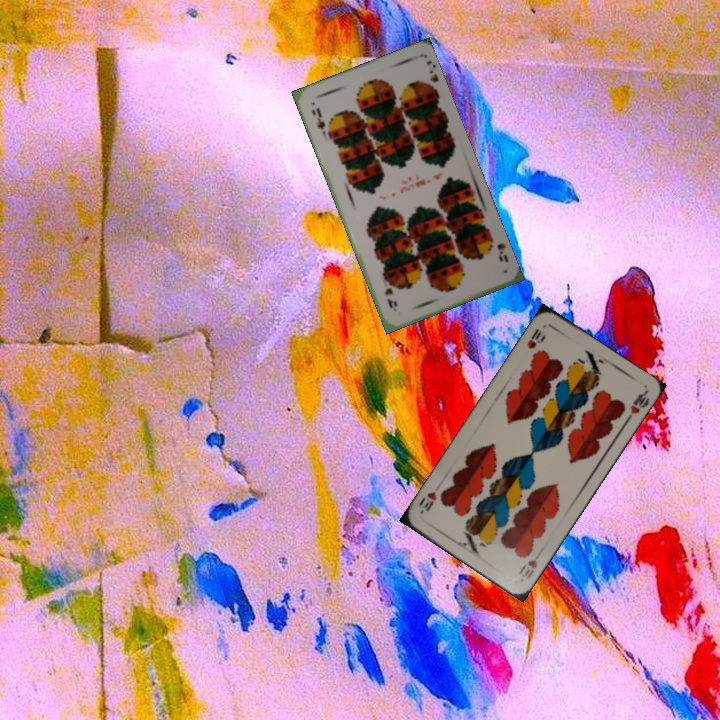H10: (523, 324, 548, 352), (515, 555, 540, 581)
S9: (485, 232, 511, 265), (308, 104, 327, 132)
